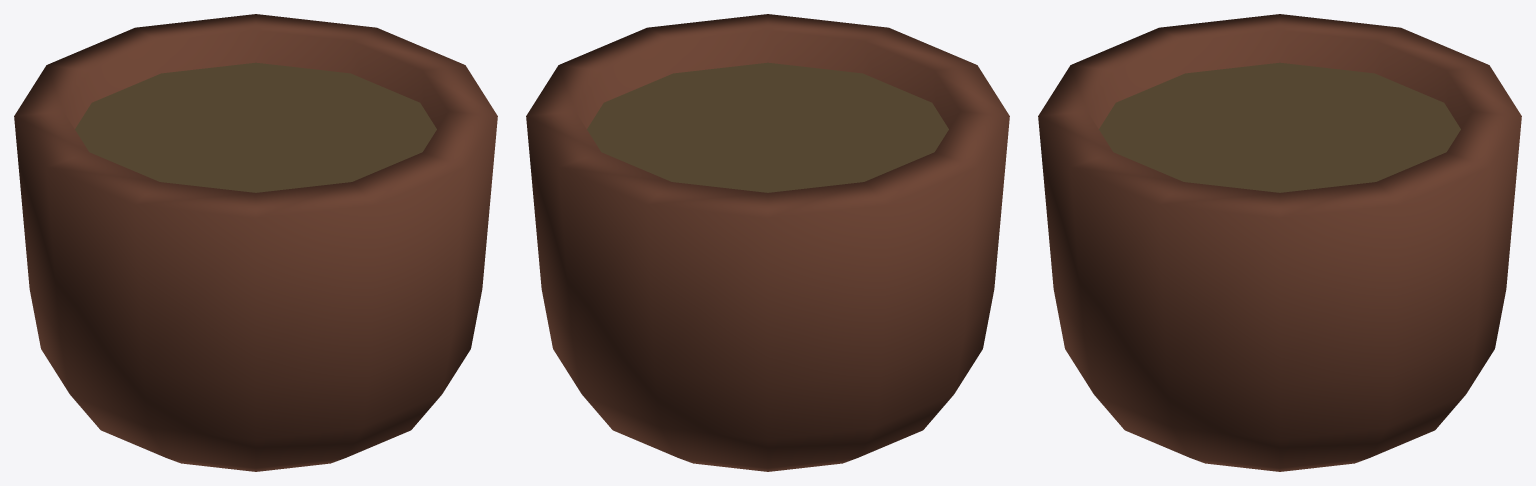
Rendered from PotPlant.fbx.
3 views of the same model, side by side, from view 1: azimuth 30°, elevation 25°; view 2: azimuth 150°, elevation 25°; view 3: azimuth 270°, elevation 25° (orthographic).
Parts seen in each view (by area): view 1: Pot, Ground; view 2: Pot, Ground; view 3: Pot, Ground.
Boxes of the visible parts, <box> form: Pot: <box>14,14,497,471</box>; Ground: <box>75,62,436,192</box>; Pot: <box>526,14,1009,471</box>; Ground: <box>587,62,948,192</box>; Pot: <box>1038,14,1521,471</box>; Ground: <box>1099,62,1460,192</box>.
Size of the model in its own units: 216 by 146 by 216.
